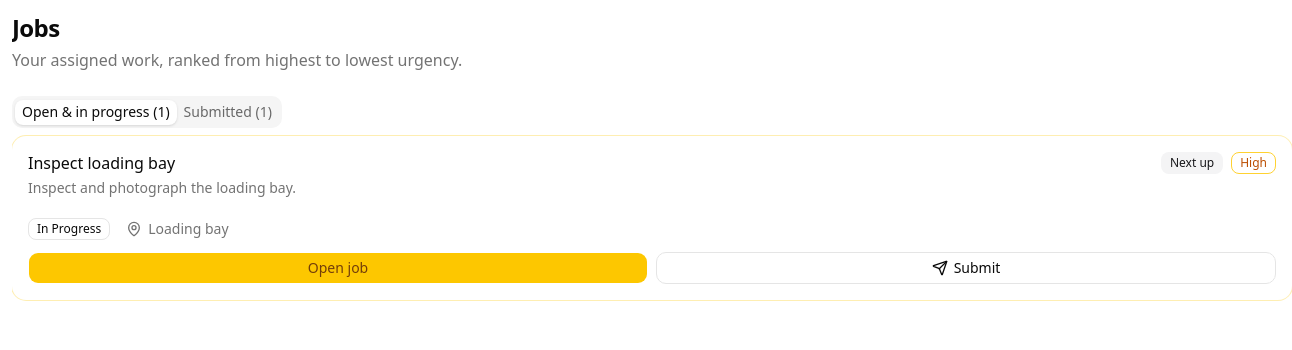
Test case: EmployeeJobsList review actions › separates submitted work from open and in-progress jobs
Check: the text "Inspect loading bay" is shown, box [28,152,175,174]
Check: the text "Submitted loading bay inspection" is not shown
What coordinates should you click on to do the following:
click the tab "Submitted (1)"
I would click on:
 (228, 112)
Its box is [177,100,279,124].
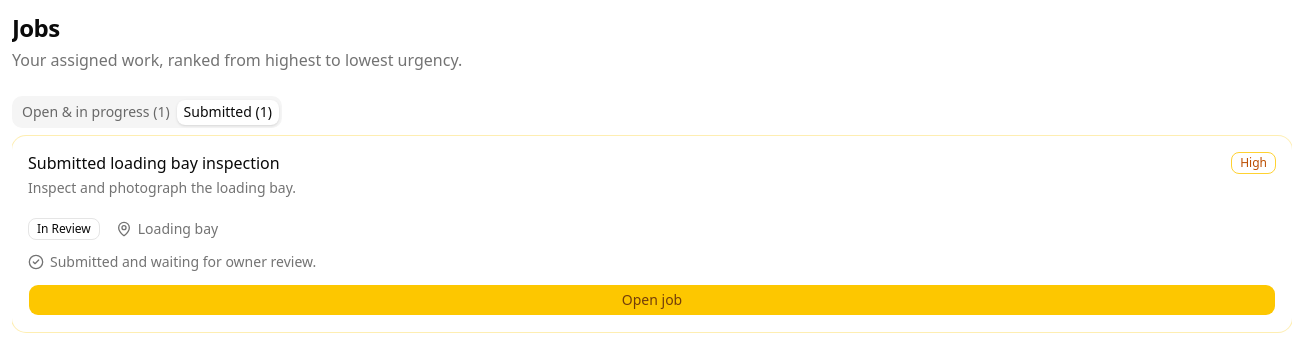
Check: the text "Submitted loading bay inspection" is shown, box [28,152,296,174]
Check: the text "Inspect loading bay" is gone
Check: the text "Submitted and waiting for owner review." is shown, box [28,252,316,271]
